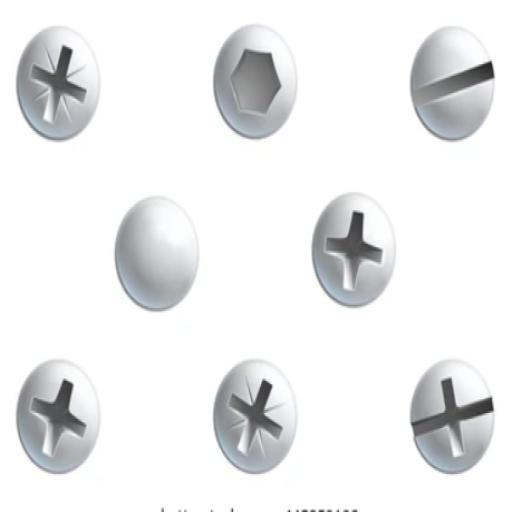Hex-Allen: (210, 18, 298, 147)
Phillips: (12, 355, 102, 478), (409, 356, 496, 477), (17, 27, 102, 144), (213, 358, 298, 475), (312, 190, 394, 307)
Slotted: (409, 26, 495, 144)
